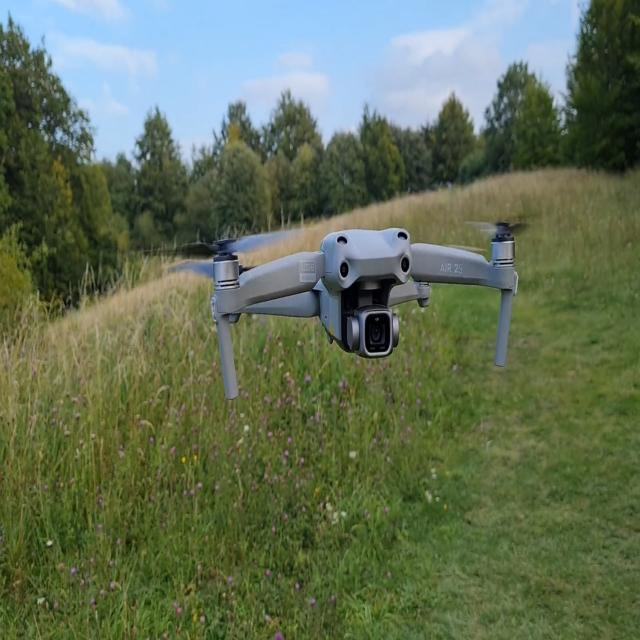drone: (160, 217, 529, 400)
